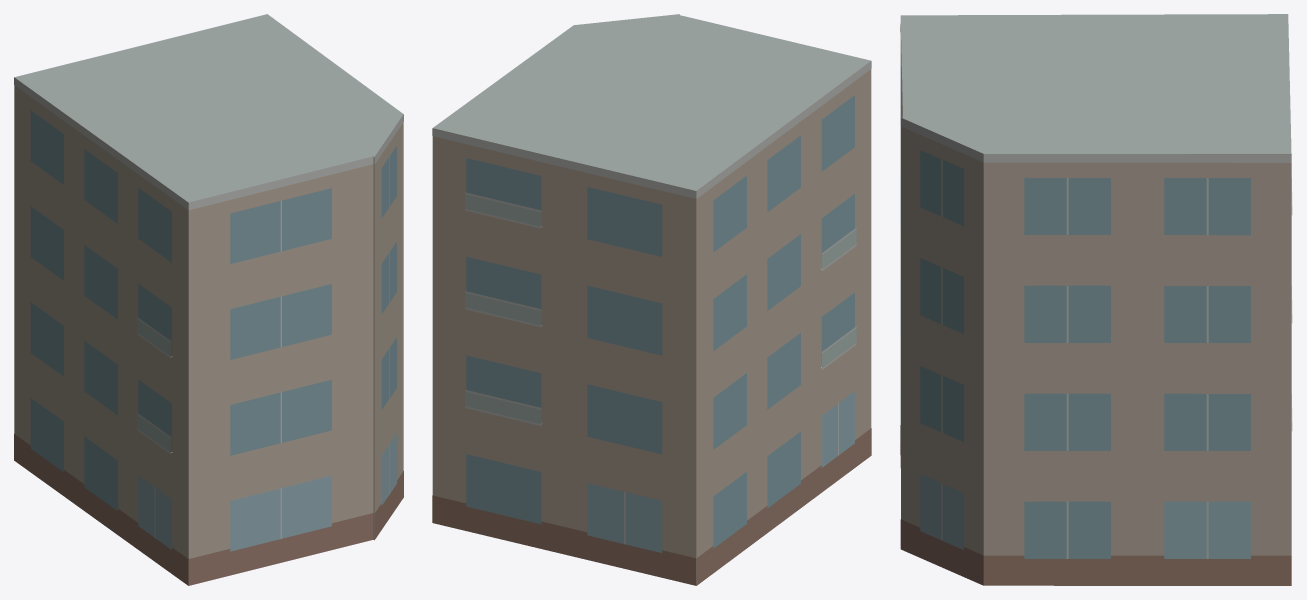
The model's file is survey-upis-32823806.glb.
The picture shows the model from 3 angles, left to right: view 1: azimuth 30°, elevation 25°; view 2: azimuth 150°, elevation 25°; view 3: azimuth 270°, elevation 25°; orthographic projection. The views are drawn at different scales.
Parts seen in each view (by area): view 1: survey-upis-32823806.tmp; view 2: survey-upis-32823806.tmp; view 3: survey-upis-32823806.tmp.
Part boxes in pixels (<box>): survey-upis-32823806.tmp: <box>14,14,403,585</box>; survey-upis-32823806.tmp: <box>432,14,871,585</box>; survey-upis-32823806.tmp: <box>900,14,1292,585</box>.
Size of the model in its own units: 8.36 by 12 by 9.88.
